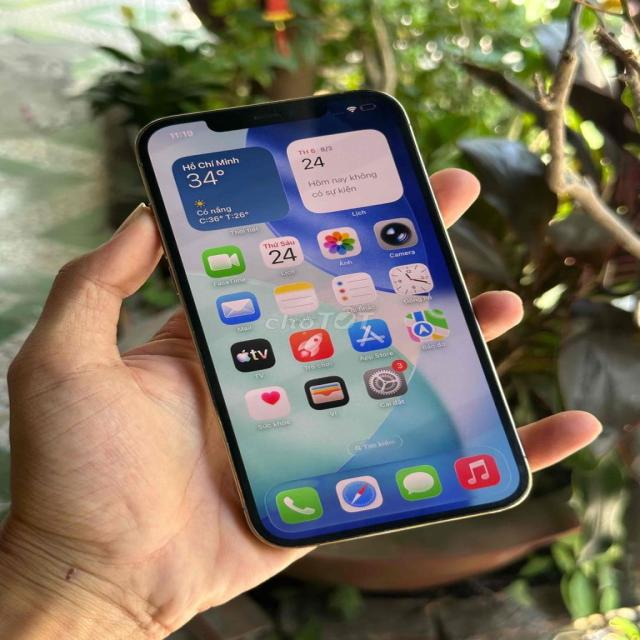gen_12_13: (130, 91, 533, 548)
